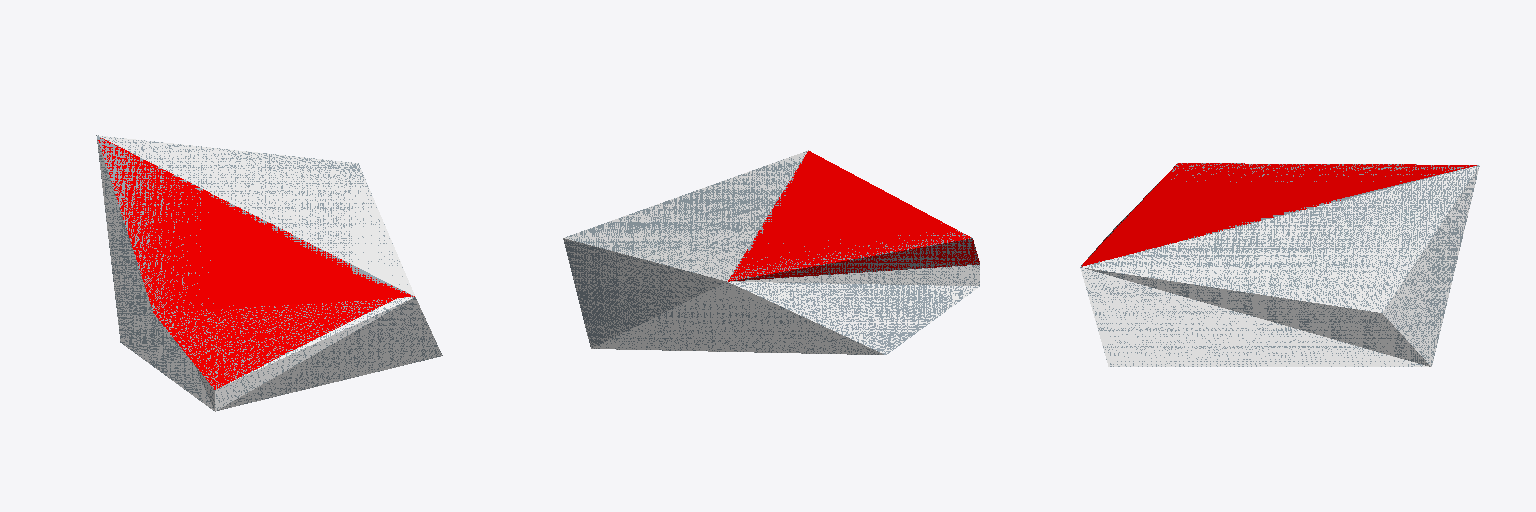
The model's file is iceberg2.obj.
The picture shows the model from 3 angles: view 1: azimuth 30°, elevation 25°; view 2: azimuth 150°, elevation 25°; view 3: azimuth 270°, elevation 25°; orthographic projection.
Visible parts, largest first — view 1: Mesh1 Model; view 2: Mesh1 Model; view 3: Mesh1 Model.
Boxes of the visible parts, x1=… form: Mesh1 Model: x1=96, y1=135, x2=442, y2=411; Mesh1 Model: x1=563, y1=150, x2=979, y2=354; Mesh1 Model: x1=1080, y1=163, x2=1479, y2=366.
Size of the model in its own units: 19970 by 7703 by 22499.